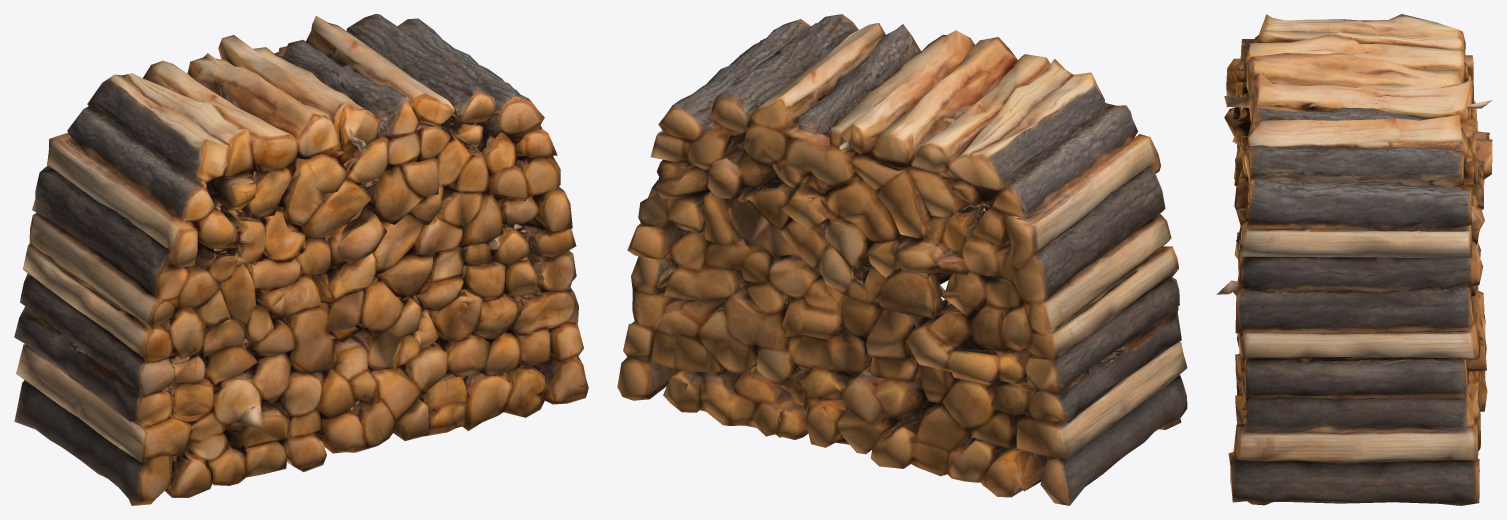
Rendered from firewood.glb.
The picture shows the model from 3 angles, left to right: view 1: azimuth 30°, elevation 25°; view 2: azimuth 150°, elevation 25°; view 3: azimuth 270°, elevation 25°; orthographic projection. The views are drawn at different scales.
Parts seen in each view (by area): view 1: model; view 2: model; view 3: model.
Part boxes in pixels (left/top/right/bottom): model: left=14, top=14, right=588, bottom=505; model: left=617, top=14, right=1187, bottom=505; model: left=1216, top=14, right=1492, bottom=505.
Size of the model in its own units: 2 by 1.49 by 1.11.
Materials: 1 (1 with a texture image).
